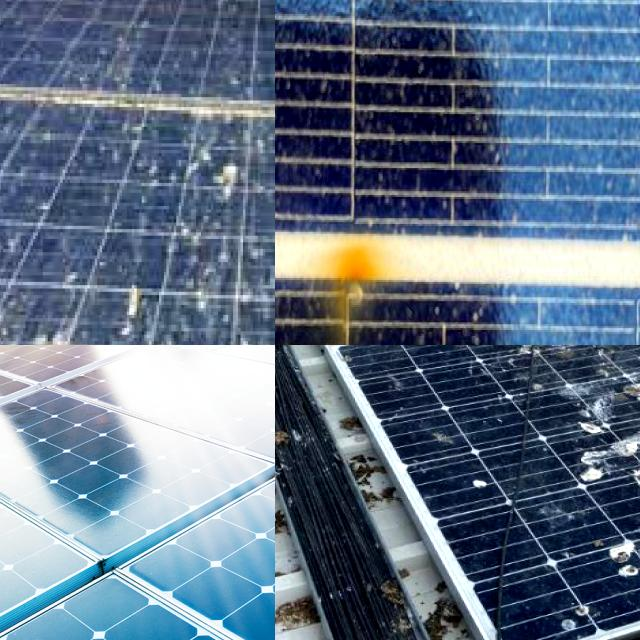bird: (576, 404, 640, 495), (192, 138, 248, 206), (586, 530, 640, 577), (106, 271, 156, 313), (36, 324, 120, 345), (619, 368, 640, 407)
crack: (0, 347, 263, 590), (0, 451, 217, 640), (0, 497, 275, 640), (0, 356, 108, 518), (0, 345, 119, 476)
shadow: (295, 230, 399, 345), (275, 0, 303, 27)
